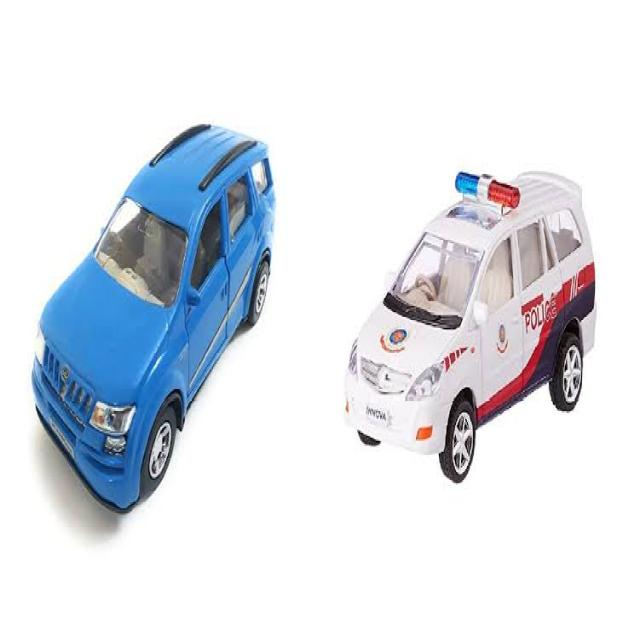Car: (30, 121, 276, 514), (342, 168, 596, 483)
